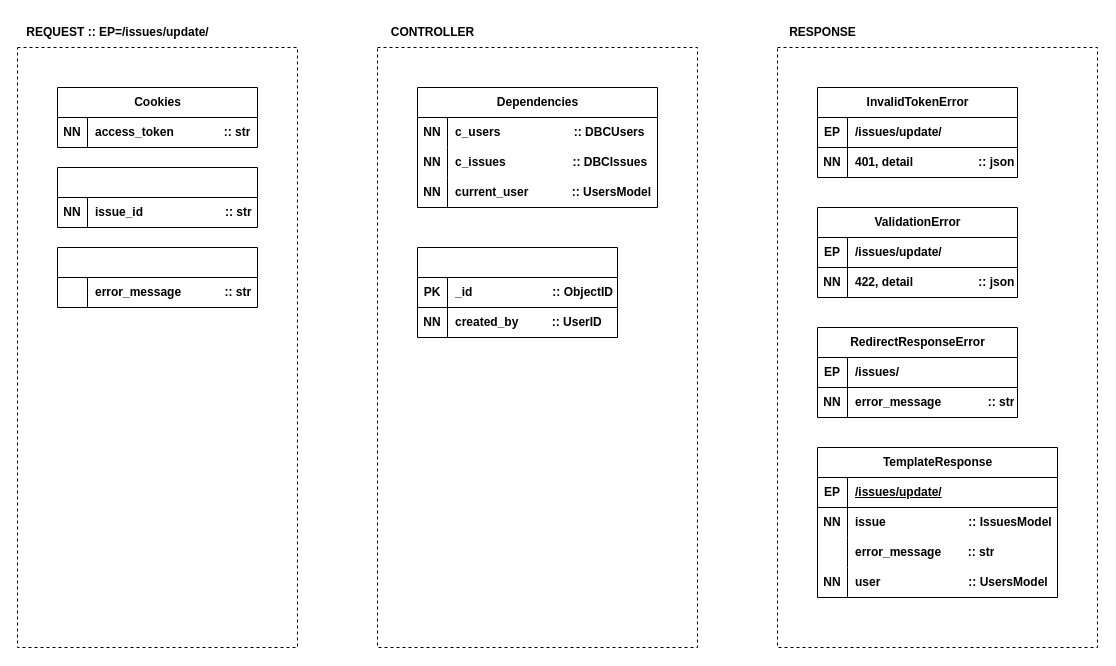
Image size: 1116x666. Some labels were removed from this diagram. The shapes that lost their labels are listed below. From the top down, each one's box as (x1, y1, x2, y2) in pixels, then its label:
(56, 166, 258, 228): PathParams
(56, 246, 258, 308): QueryParams
(416, 246, 618, 338): Collection `issues`
